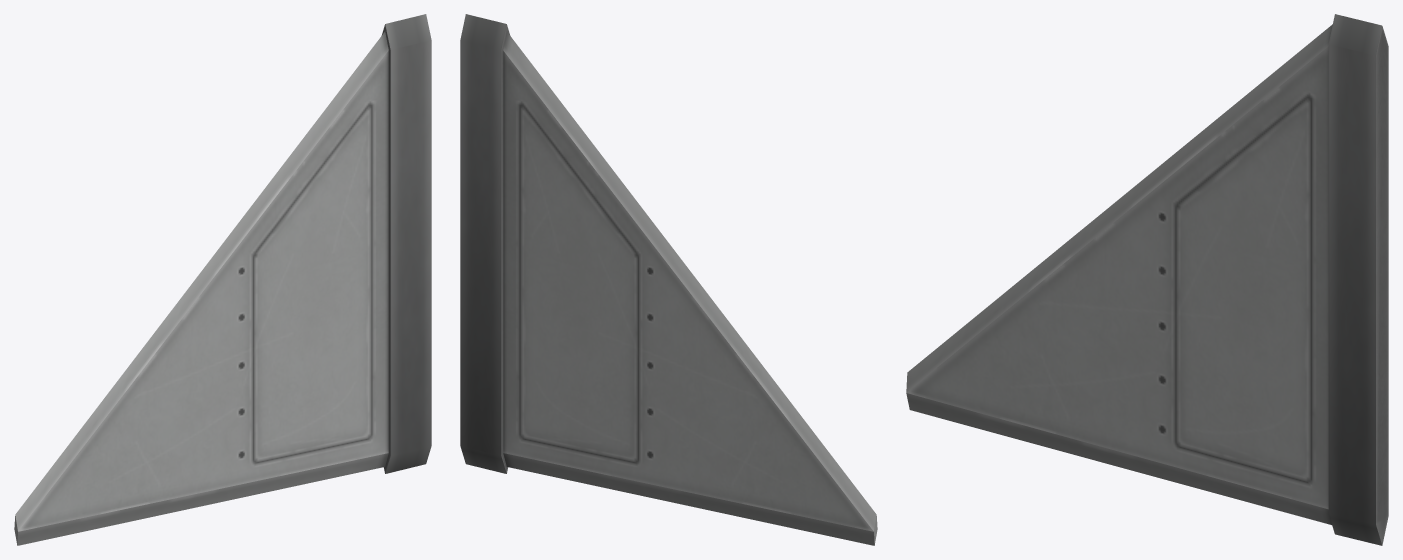
File: TLV_0_Fin_1.obj
3 renders of one model, left to right at view 1: azimuth 30°, elevation 25°; view 2: azimuth 150°, elevation 25°; view 3: azimuth 330°, elevation 25°, orthographic. The views are drawn at different scales.
Parts seen in each view (by area): view 1: TLV_0_Fin_1; view 2: TLV_0_Fin_1; view 3: TLV_0_Fin_1.
Boxes of the visible parts, x1,y1,x2,y2 form: TLV_0_Fin_1: (14,14,431,545); TLV_0_Fin_1: (460,14,877,545); TLV_0_Fin_1: (906,14,1388,545).
Size of the model in its own units: 0.6515 by 0.682 by 0.03.
